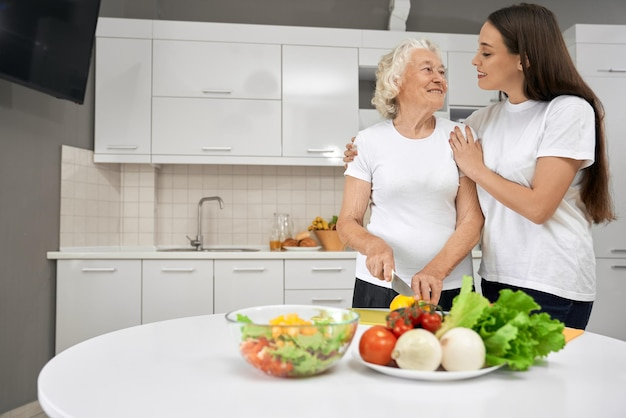knife: (390, 271, 419, 300)
